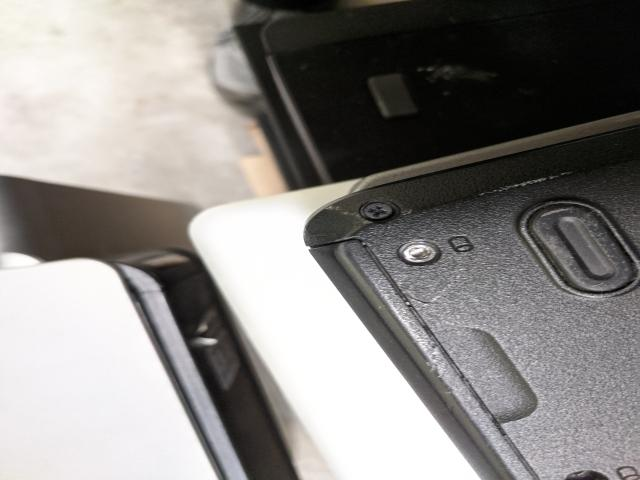CRS: (361, 202, 397, 221)
